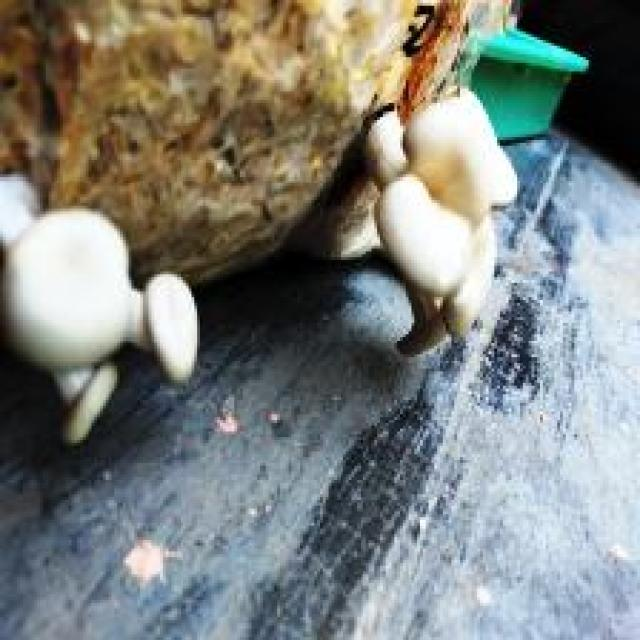field-mushroom: (0, 203, 200, 446)
